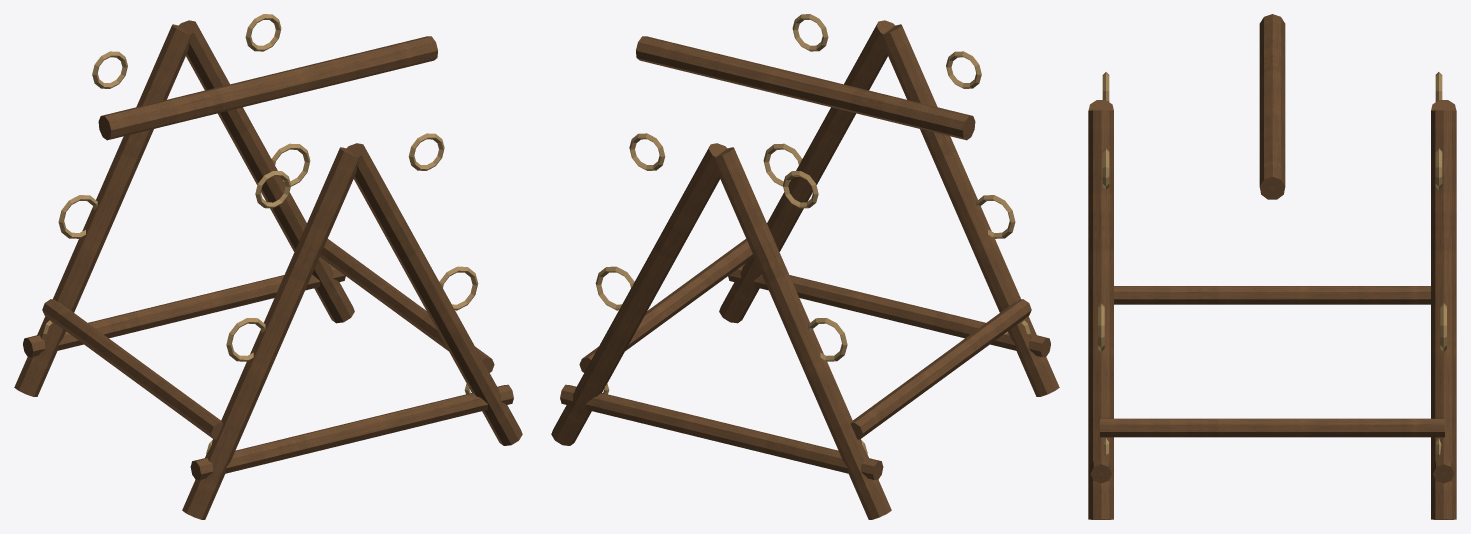
File: cs-002_shelter_partial_frame.obj
The picture shows the model from 3 angles, left to right: view 1: azimuth 30°, elevation 25°; view 2: azimuth 150°, elevation 25°; view 3: azimuth 270°, elevation 25°; orthographic projection. The views are drawn at different scales.
Visible parts, largest first — view 1: cs-002_shelter_partial_frame; view 2: cs-002_shelter_partial_frame; view 3: cs-002_shelter_partial_frame.
Boxes of the visible parts, bbox=[...] form: cs-002_shelter_partial_frame: bbox=[14, 14, 522, 519]; cs-002_shelter_partial_frame: bbox=[551, 14, 1059, 519]; cs-002_shelter_partial_frame: bbox=[1088, 14, 1456, 519].
Size of the model in its own units: 1.67 by 1.63 by 1.55.
Materials: 2 (2 with a texture image).
